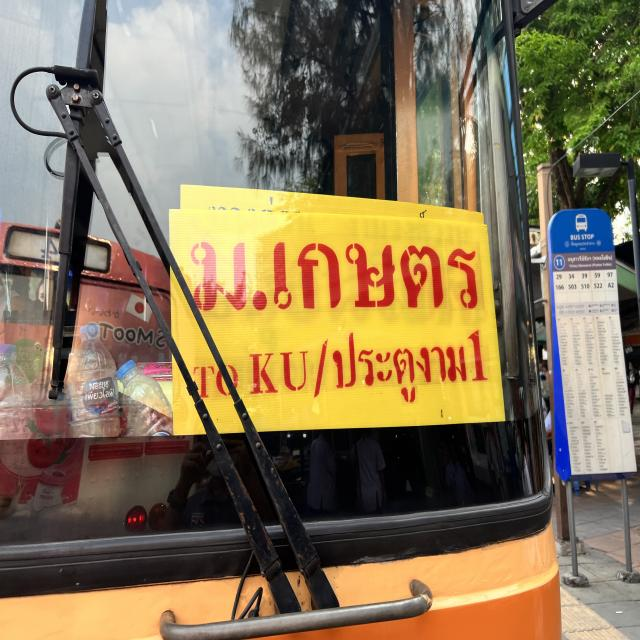BMTA-bus: (0, 0, 564, 640)
Destination-Sign-Extra-Bus-Expressway: (169, 208, 505, 422)
